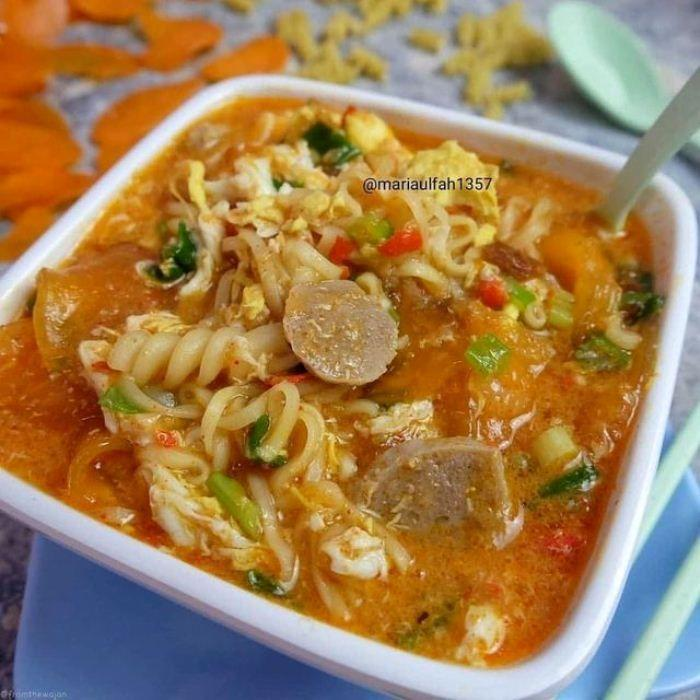seblak: (2, 99, 657, 668)
